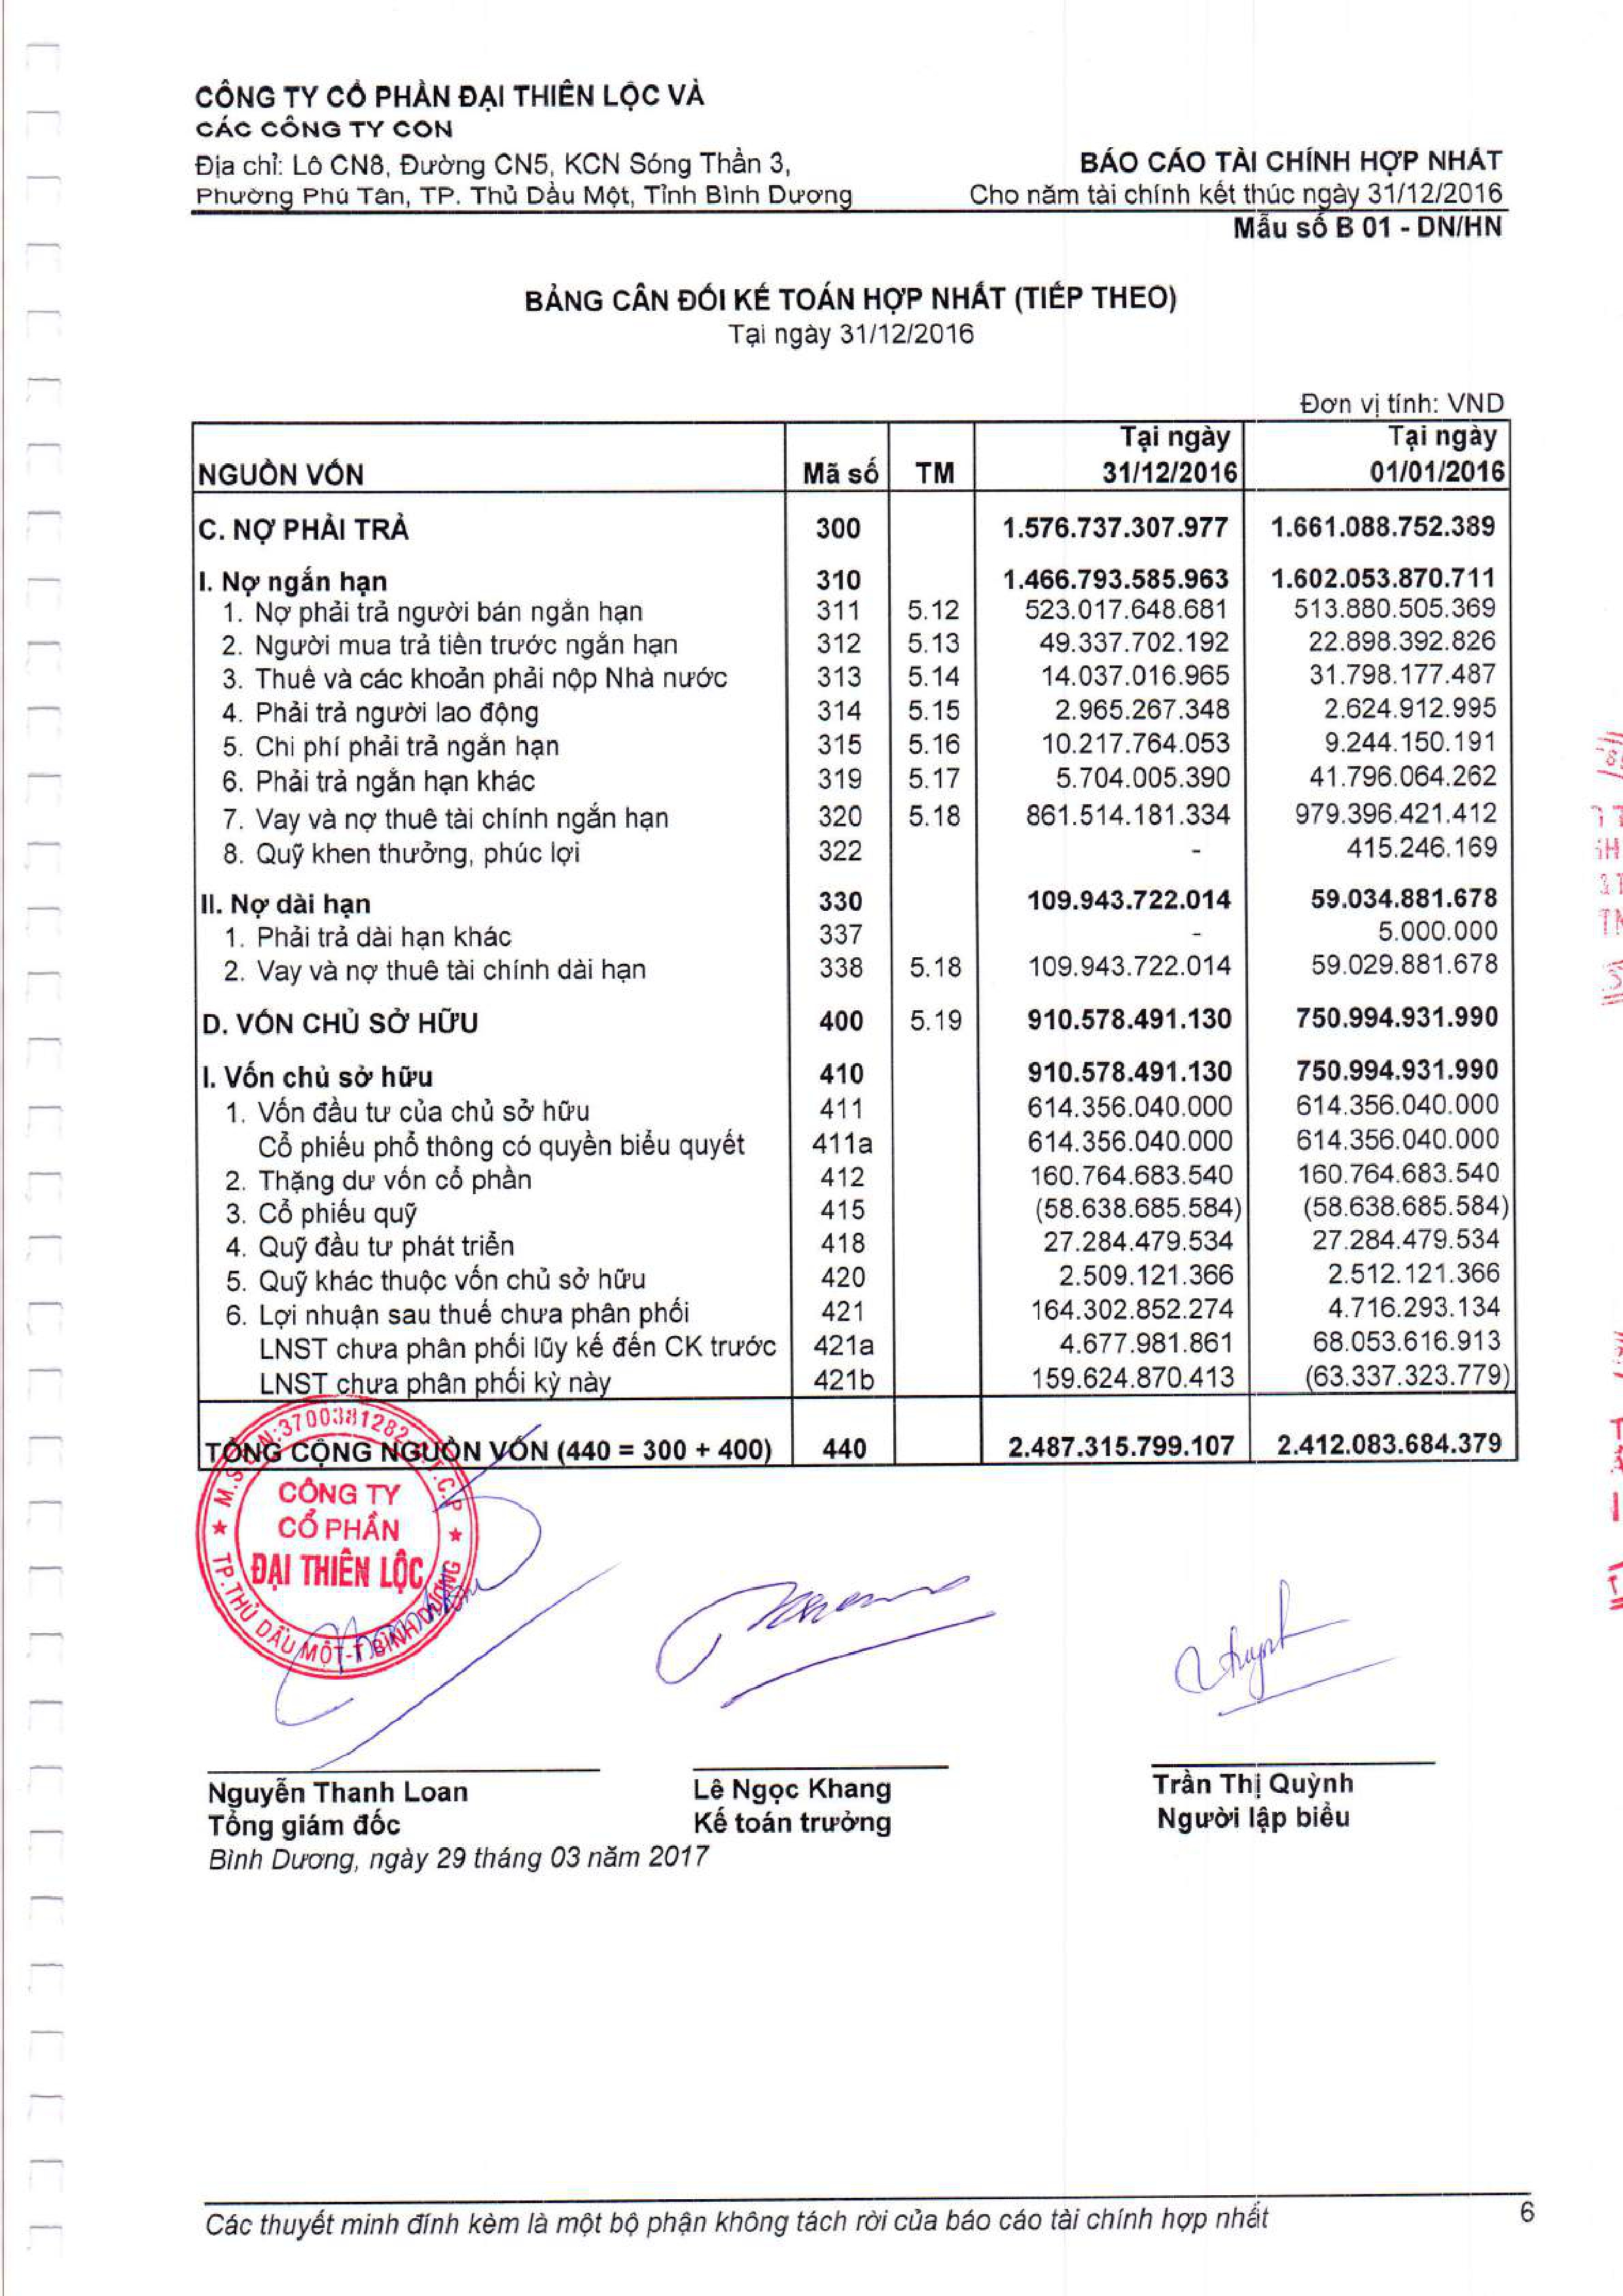table: (179, 413, 1526, 1483)
table column: (197, 413, 785, 1483), (991, 413, 1245, 1483), (1261, 413, 1516, 1483), (817, 413, 887, 1483), (905, 413, 973, 1483)
table column header: (179, 411, 1528, 490)
table row: (179, 421, 1526, 484), (179, 497, 1526, 537), (179, 542, 1526, 583), (179, 1331, 1526, 1367), (179, 929, 1526, 964), (179, 681, 1526, 714), (179, 748, 1526, 781), (179, 979, 1526, 1013), (179, 1030, 1526, 1064), (179, 1067, 1526, 1101), (179, 585, 1526, 616), (179, 648, 1526, 679), (179, 714, 1526, 746), (179, 783, 1526, 814), (179, 816, 1526, 848), (179, 865, 1526, 897), (179, 1102, 1526, 1134), (179, 1297, 1526, 1329), (179, 618, 1526, 648), (179, 899, 1526, 929), (179, 1136, 1526, 1166), (179, 1167, 1526, 1197), (179, 1199, 1526, 1229), (179, 1232, 1526, 1262), (179, 1266, 1526, 1295), (179, 1432, 1526, 1462)
